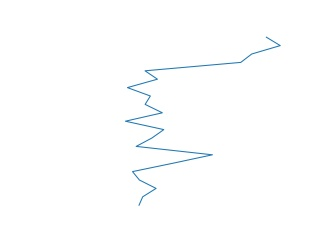crevasseRiverChannelBar: (123, 35, 287, 208)
